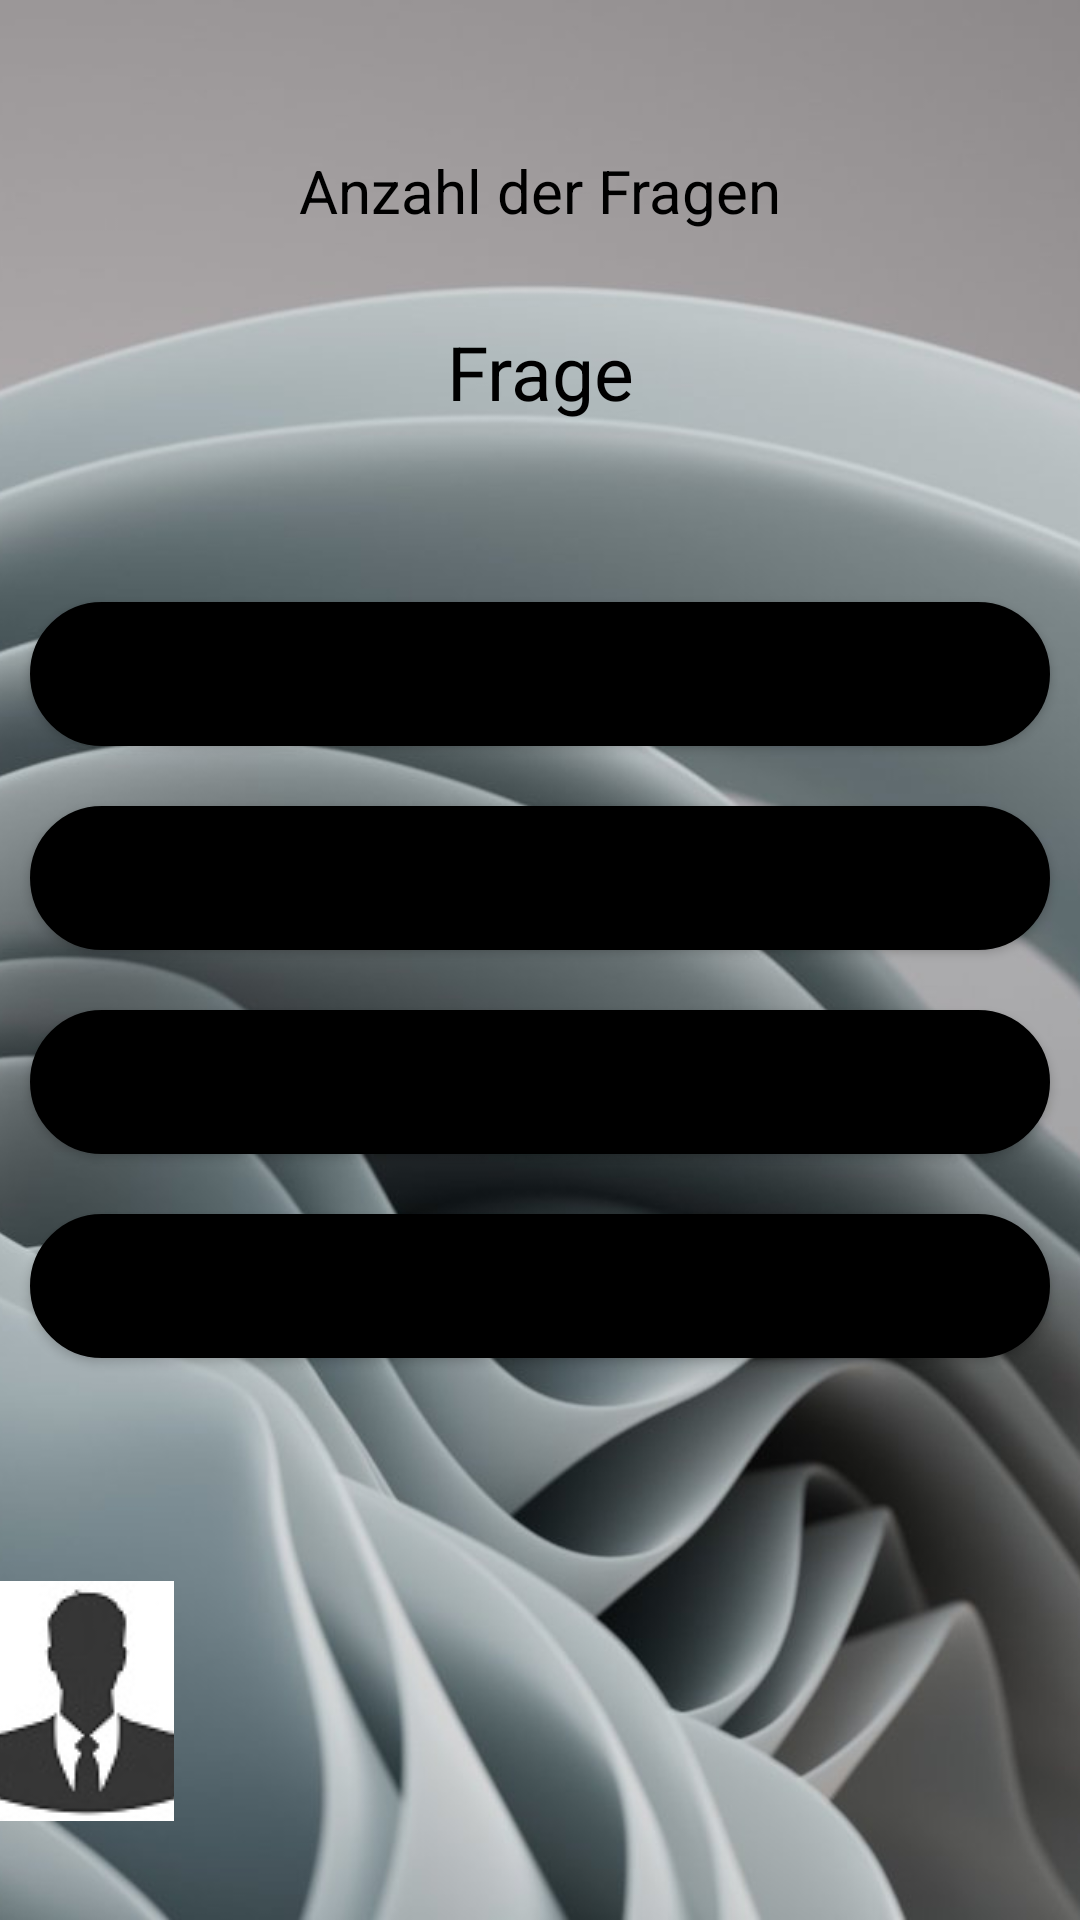

Point at icon controls on the screen. Image size 1080px×1920px, points as (x,y).
profile: (87,1701)
